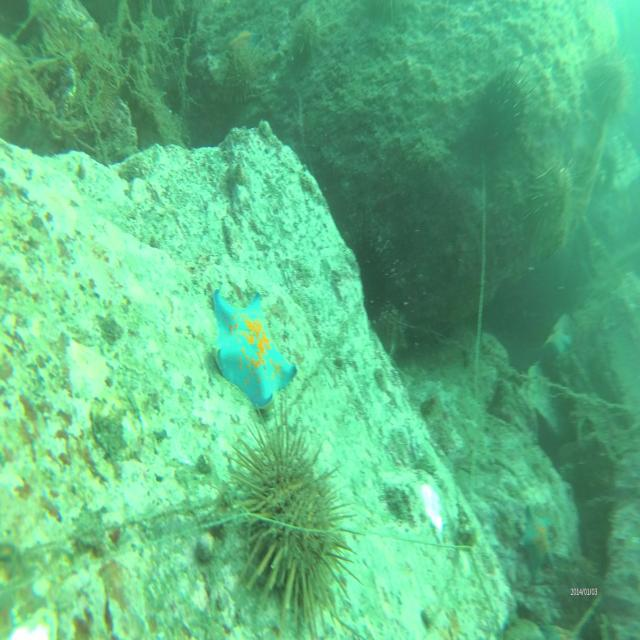echinus: (223, 410, 352, 626), (341, 219, 407, 329), (529, 150, 578, 257), (592, 51, 634, 118), (484, 70, 526, 134), (226, 43, 266, 100), (290, 13, 322, 63)
starfish: (212, 285, 300, 412), (523, 508, 555, 564), (546, 309, 574, 362), (230, 28, 258, 54)
